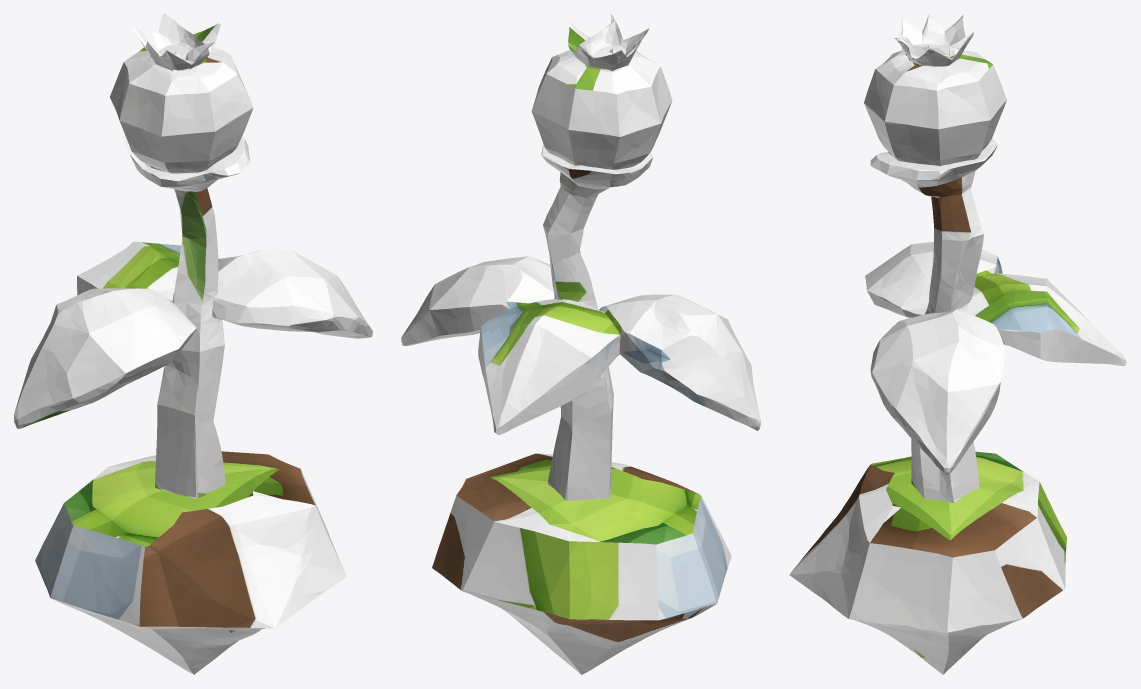
Rendered from CloudBerry_seedling.obj.
The picture shows the model from 3 angles, left to right: view 1: azimuth 30°, elevation 25°; view 2: azimuth 150°, elevation 25°; view 3: azimuth 270°, elevation 25°; orthographic projection. The views are drawn at different scales.
Parts seen in each view (by area): view 1: CloudBerry_seedling; view 2: CloudBerry_seedling; view 3: CloudBerry_seedling.
Boxes of the visible parts, bbox=[...] form: CloudBerry_seedling: bbox=[14, 14, 372, 674]; CloudBerry_seedling: bbox=[401, 14, 760, 674]; CloudBerry_seedling: bbox=[789, 14, 1126, 674].
Bounding box in the file's own units: 0.6917 × 1.2 × 0.5772.
